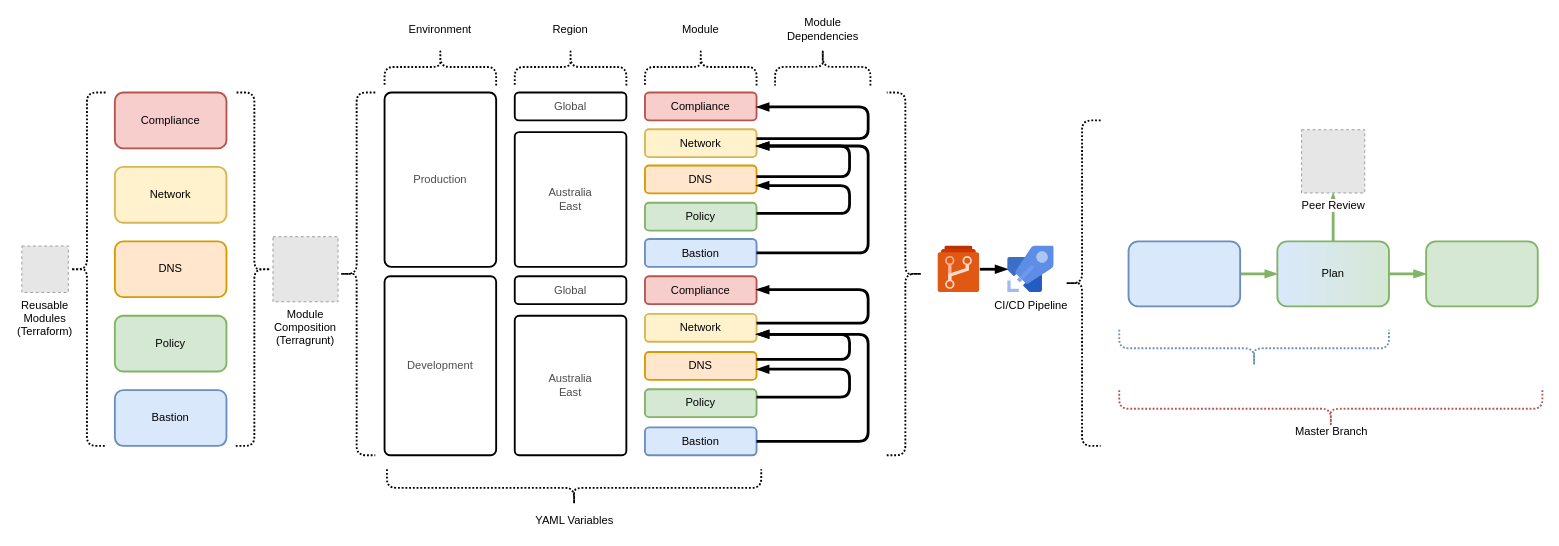
This 1559x546 diagram has some shape labels left out. Grey dashed boxes stand in for pictures. The centre of each missing label's shape, as x and y in pixels:
Apply: the point at 1481,273
Branch / Pull Request: the point at 1253,347
Git Repository: the point at 958,269
Linting / Validation: the point at 1184,273
